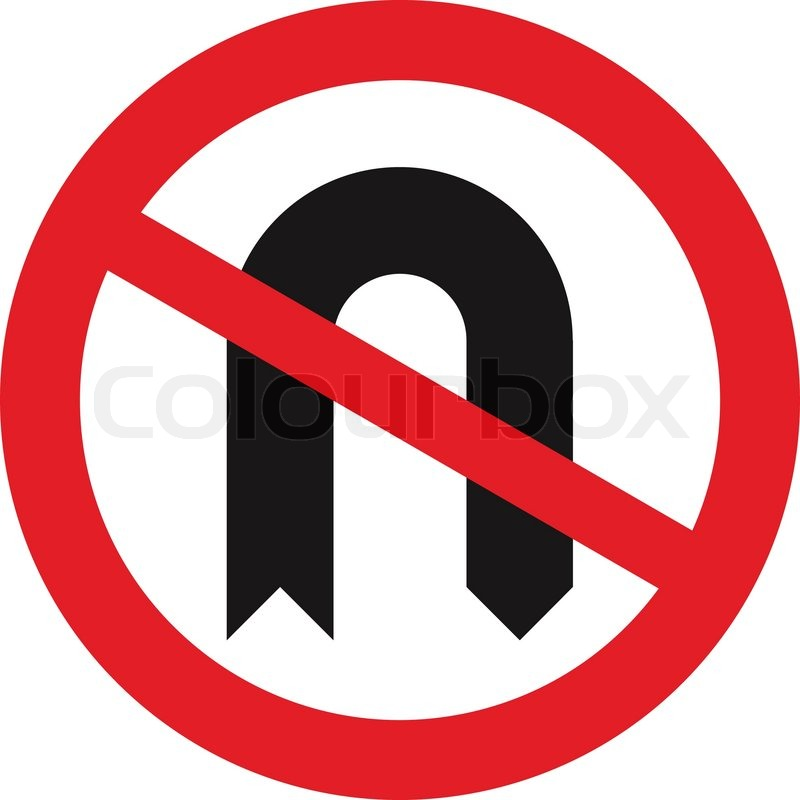No_u_turn: (5, 1, 798, 799)
